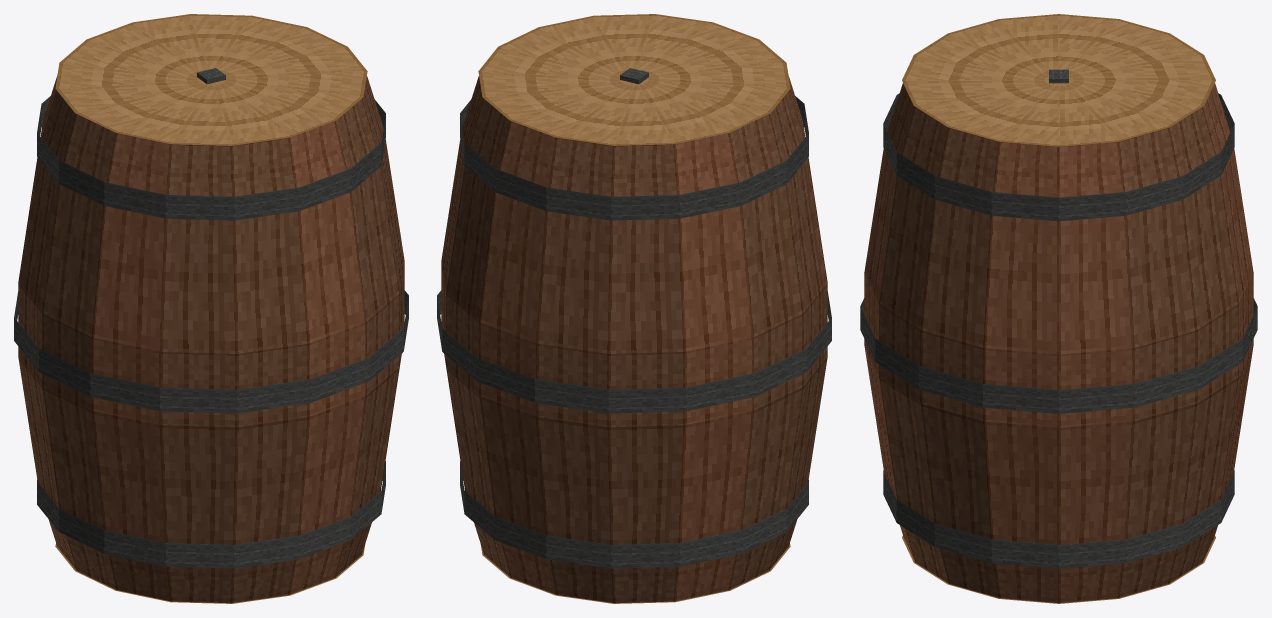
The model's file is barril_madera_medieval.glb.
3 renders of one model, left to right at view 1: azimuth 30°, elevation 25°; view 2: azimuth 150°, elevation 25°; view 3: azimuth 270°, elevation 25°, orthographic.
Parts seen in each view (by area): view 1: barril_madera_medieval; view 2: barril_madera_medieval; view 3: barril_madera_medieval.
Part boxes in pixels (<box>): barril_madera_medieval: <box>14,14,408,603</box>; barril_madera_medieval: <box>437,14,831,603</box>; barril_madera_medieval: <box>860,14,1257,603</box>.
Bounding box in the file's own units: 0.7251 × 0.9388 × 0.7251.
Materials: 1 (1 with a texture image).
